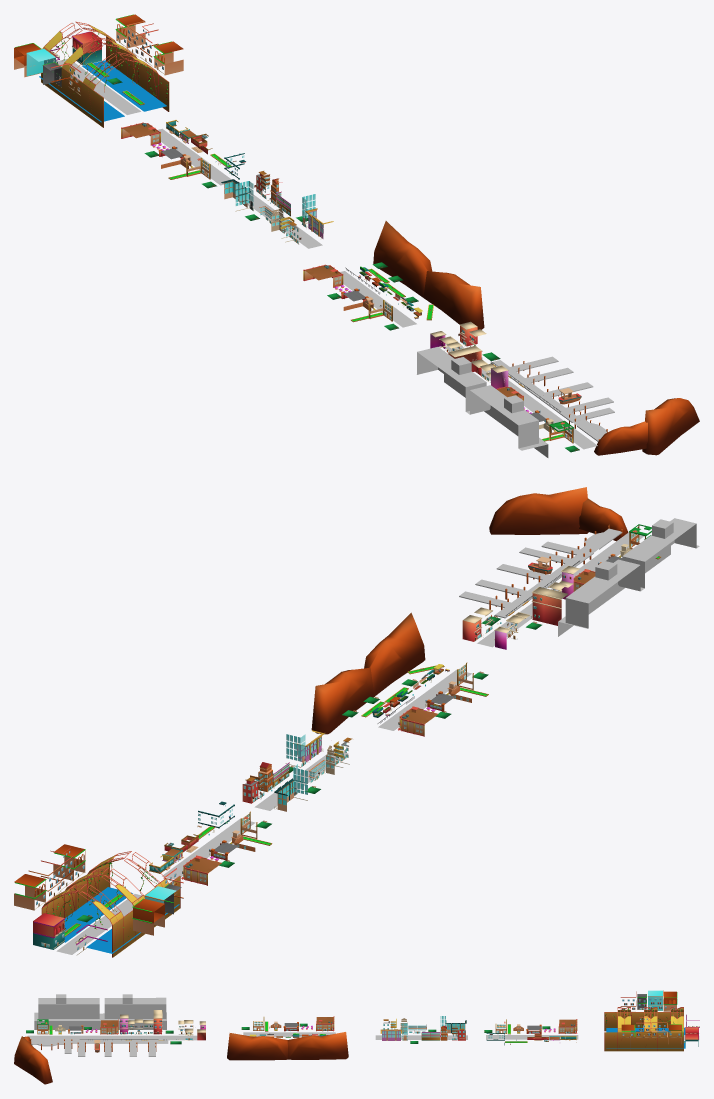
Rendered from UpdatedCityEnvironment.fbx.
The picture shows the model from 3 angles, top to bottom: view 1: azimuth 30°, elevation 25°; view 2: azimuth 150°, elevation 25°; view 3: azimuth 270°, elevation 25°; orthographic projection. The views are drawn at different scales.
Parts seen in each view (by area): view 1: city.258, city.007, city.264, BackgroundBuildings, city.269, road.010, road.009; view 2: city.258, city.007, city.264, BackgroundBuildings, road.010, road.009, city.269; view 3: city.258, city.007, BackgroundBuildings, city.264, city.269, road.010, road.009.
Part boxes in pixels (x1=…): city.258: x1=430, y1=321, x2=699, y2=455; city.007: x1=303, y1=221, x2=484, y2=330; city.264: x1=39, y1=21, x2=169, y2=127; BackgroundBuildings: x1=416, y1=347, x2=548, y2=457; city.269: x1=14, y1=14, x2=183, y2=95; road.010: x1=221, y1=171, x2=333, y2=248; road.009: x1=121, y1=120, x2=245, y2=188; city.258: x1=459, y1=487, x2=660, y2=649; city.007: x1=311, y1=612, x2=488, y2=736; city.264: x1=33, y1=851, x2=180, y2=957; BackgroundBuildings: x1=558, y1=518, x2=699, y2=636; road.010: x1=242, y1=730, x2=352, y2=811; road.009: x1=149, y1=801, x2=272, y2=885; city.269: x1=14, y1=844, x2=183, y2=935; city.258: x1=14, y1=1010, x2=205, y2=1084; city.007: x1=227, y1=1016, x2=348, y2=1060; BackgroundBuildings: x1=34, y1=994, x2=166, y2=1029; city.264: x1=604, y1=1007, x2=699, y2=1051; city.269: x1=620, y1=990, x2=682, y2=1043; road.010: x1=375, y1=1016, x2=467, y2=1043; road.009: x1=484, y1=1019, x2=578, y2=1045.
Bounding box in the file's own units: 38.53 × 13.04 × 192.
